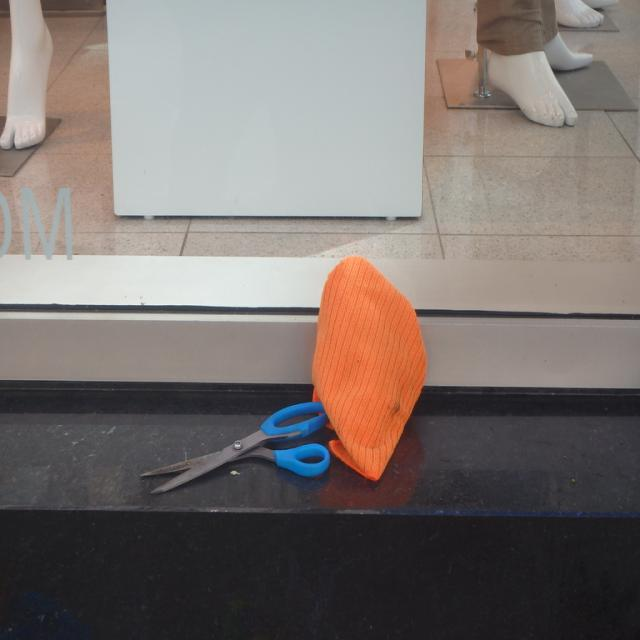scissors: (140, 401, 330, 494)
